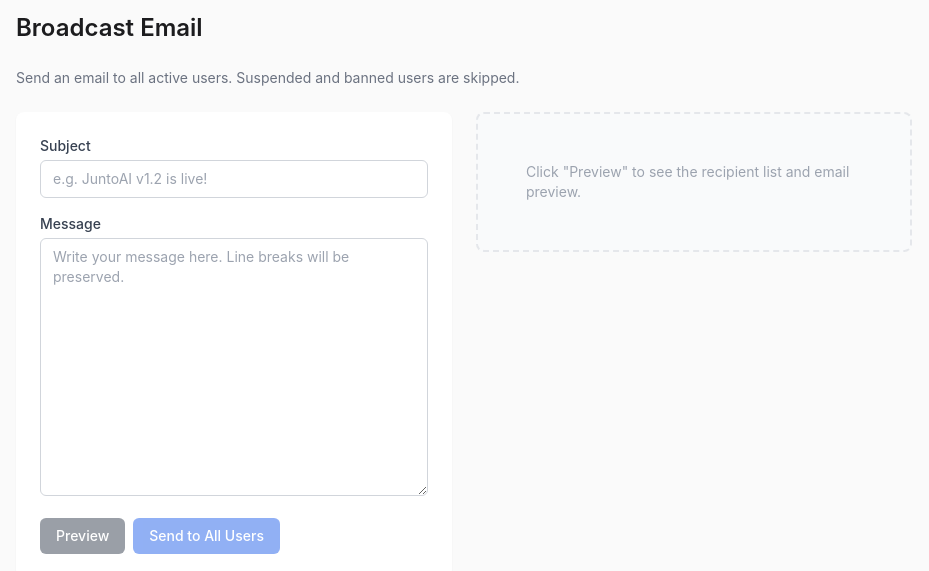
Test case: AdminBroadcastPage › shows singular 'user' when total_recipients is 1
Type "Hi" into the field labelled "Subject" at (234, 179), box 40,160 -> 428,198
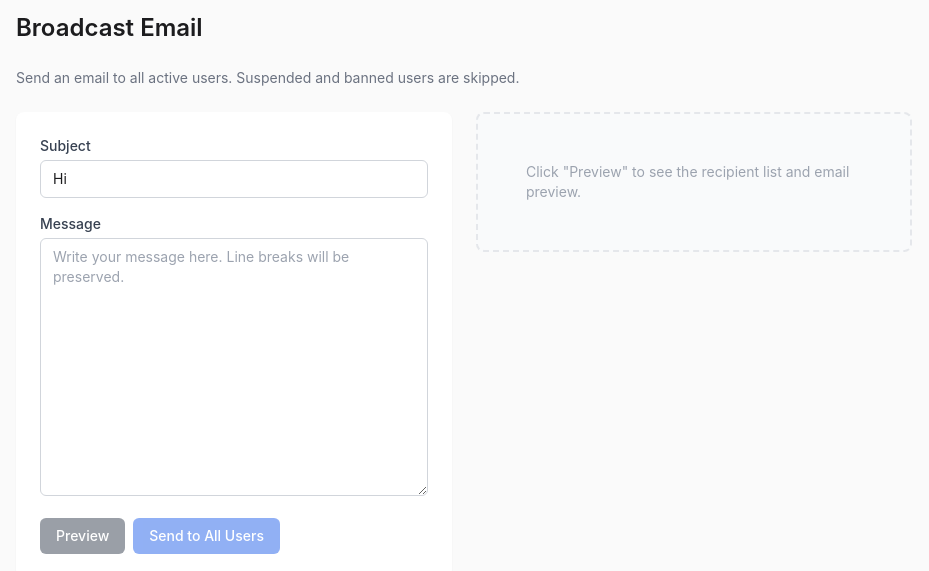
Type "Hi" into the text box labelled "Message" at (234, 367), box 40,238 -> 428,496
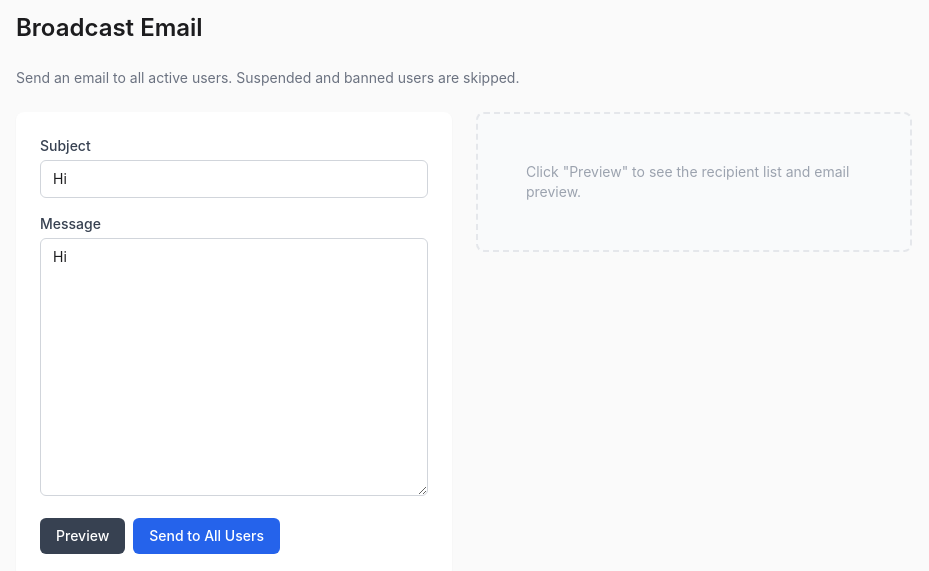
Click the button "Preview" at (83, 536), box 40,518 -> 125,554
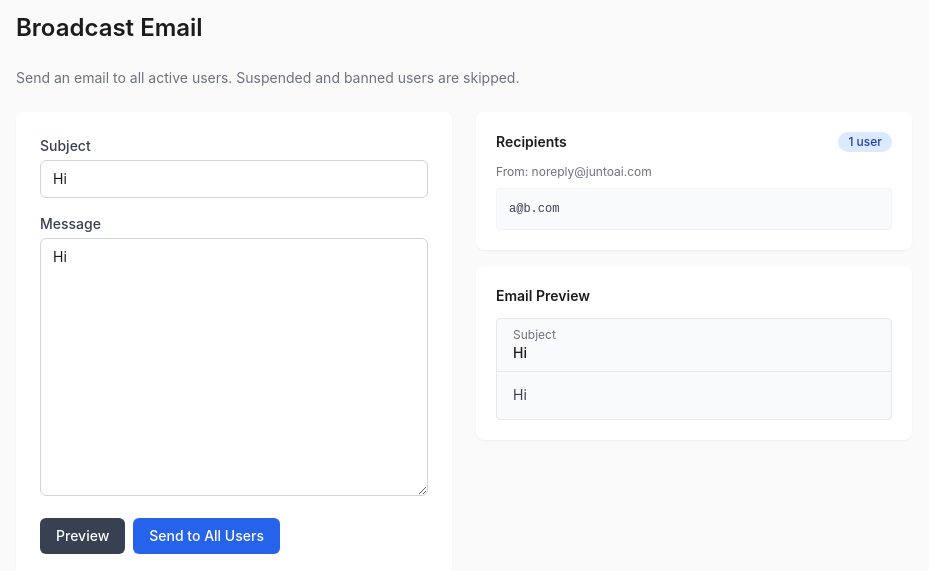
Check: the text "1 user" is shown, box 838,132 -> 892,152
